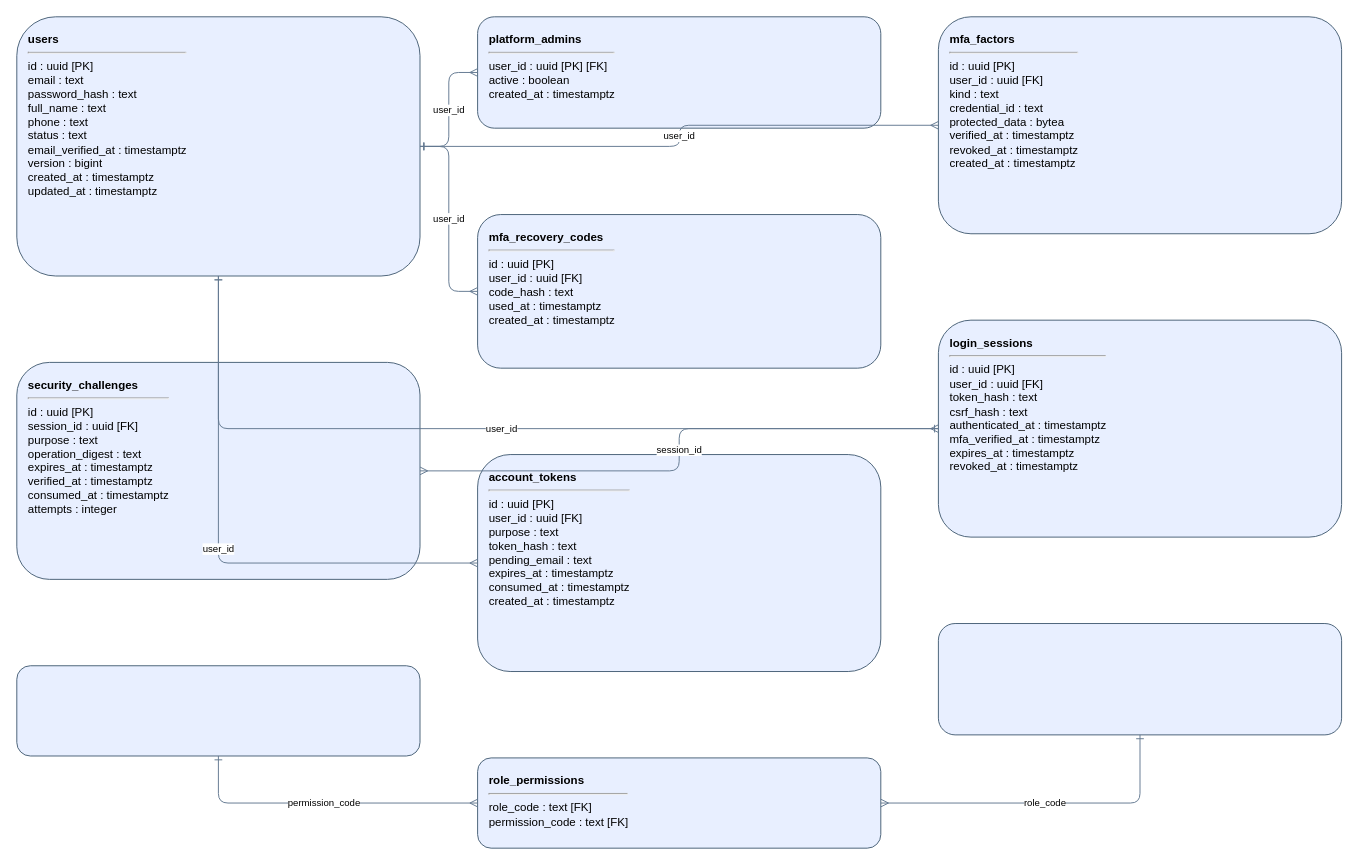
The diagram is 1358 pixels wide and 865 high, and some of its shapes have lost their labels. Each missing label, with the box of its shape:
permissions code : text [PK] description : text: (16, 665, 420, 756)
roles code : text [PK] name : text scope : text: (937, 623, 1342, 735)
